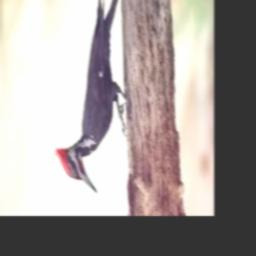Woodpecker: (55, 0, 128, 194)
